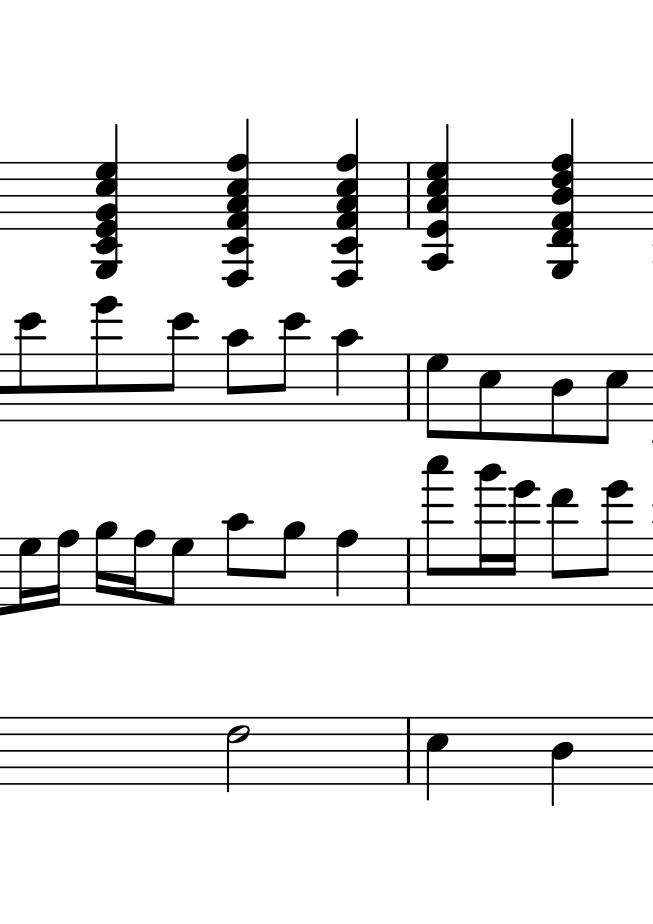16_7: (17, 535, 40, 615)
16_8: (44, 527, 80, 609), (120, 529, 154, 607)
16_9: (93, 520, 121, 608)
2_6: (225, 714, 251, 793)
4_10: (332, 328, 362, 423)
4_4: (549, 715, 574, 812)
4_5: (426, 714, 450, 804)
4_8: (333, 529, 361, 608)
8_10: (222, 327, 252, 424), (223, 511, 253, 606)
8_12: (269, 312, 309, 423), (158, 312, 197, 423), (15, 311, 43, 423)
8_13: (548, 489, 578, 608)
8_14: (590, 477, 633, 608), (503, 479, 538, 608), (91, 294, 121, 424)
8_16: (477, 462, 506, 608)
8_17: (423, 452, 451, 608)
8_4: (548, 349, 575, 447)
8_5: (592, 352, 630, 446), (476, 349, 503, 442)
8_7: (161, 535, 196, 608), (424, 352, 450, 441)
8_9: (270, 519, 306, 608)
Single_barline: (400, 717, 418, 783), (400, 162, 418, 228), (401, 353, 417, 421), (402, 539, 416, 605)
